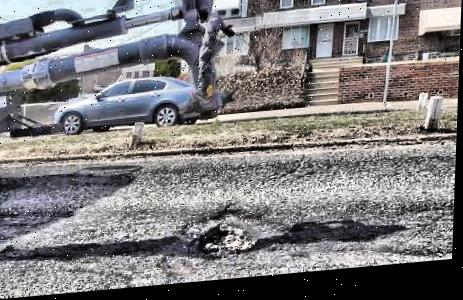pothole: (176, 207, 268, 269)
